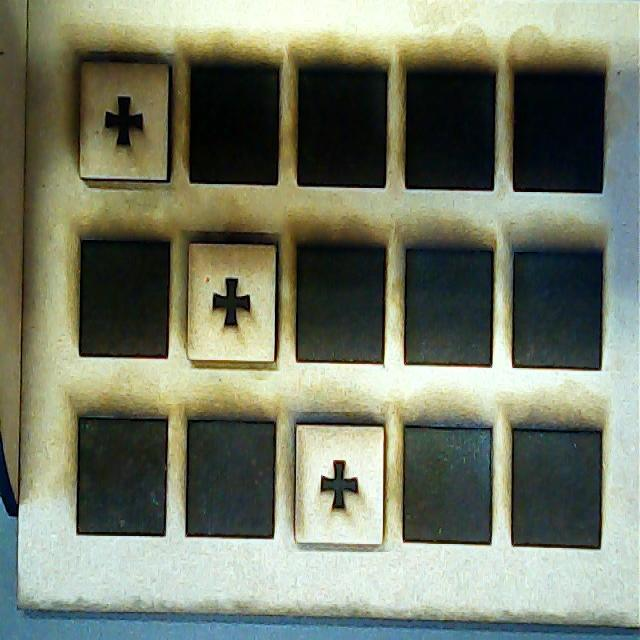temple: (188, 239, 280, 366), (297, 423, 386, 545), (79, 56, 170, 175)
